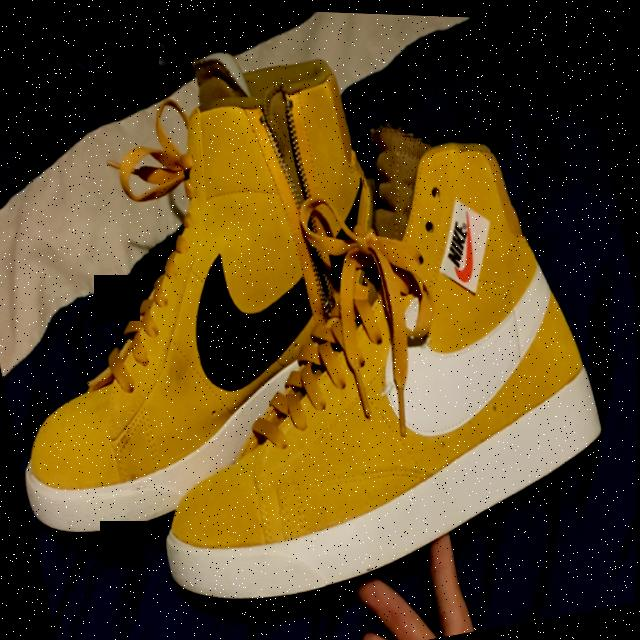shoes: (86, 75, 633, 629), (0, 17, 438, 558)
